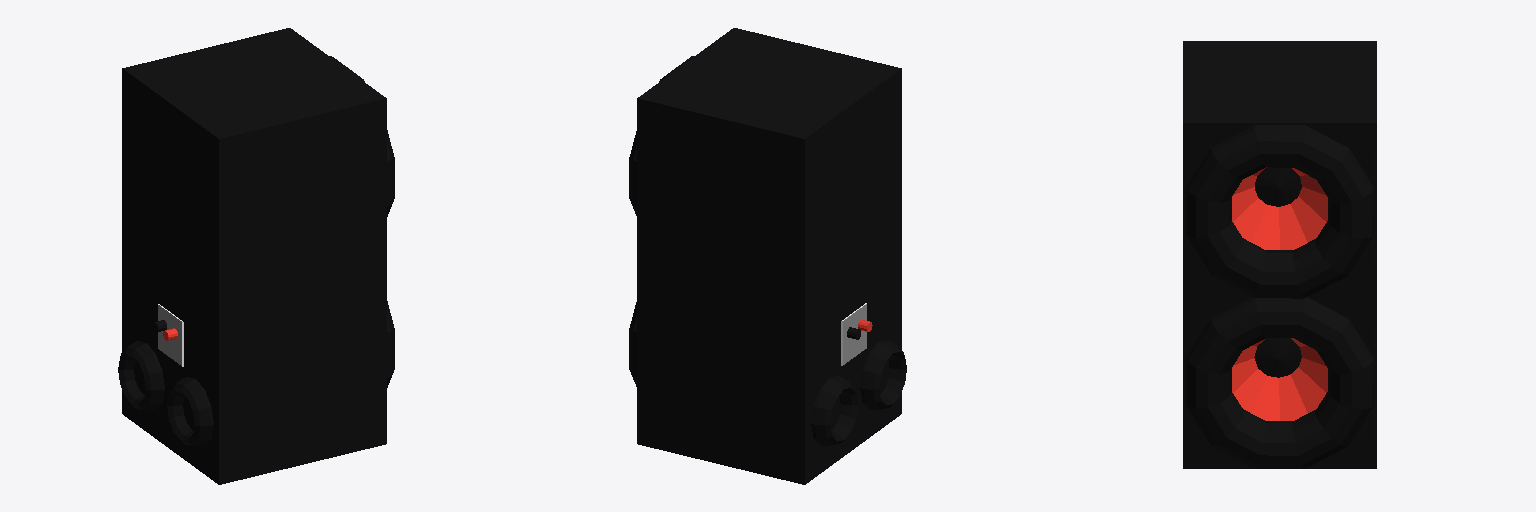
The picture shows the model from 3 angles: view 1: azimuth 30°, elevation 25°; view 2: azimuth 150°, elevation 25°; view 3: azimuth 270°, elevation 25°; orthographic projection.
Visible parts, largest first — view 1: group[number redacted], group[number redacted], group[number redacted], group[number redacted], group[number redacted], group[number redacted]; view 2: group[number redacted], group[number redacted], group[number redacted], group[number redacted], group[number redacted], group[number redacted]; view 3: group[number redacted], group[number redacted], group[number redacted], group[number redacted], group[number redacted], group[number redacted], group[number redacted], group[number redacted].
Part boxes in pixels (x1,y1,x2,y2): group[number redacted]: (122, 28, 386, 313); group[number redacted]: (122, 244, 386, 484); group[number redacted]: (167, 377, 213, 446); group[number redacted]: (118, 341, 164, 410); group[number redacted]: (158, 304, 183, 366); group[number redacted]: (330, 56, 394, 216); group[number redacted]: (637, 28, 901, 313); group[number redacted]: (637, 244, 901, 484); group[number redacted]: (860, 340, 906, 410); group[number redacted]: (811, 376, 857, 445); group[number redacted]: (841, 303, 866, 365); group[number redacted]: (629, 56, 693, 215); group[number redacted]: (1183, 41, 1376, 295); group[number redacted]: (1185, 125, 1373, 298); group[number redacted]: (1185, 297, 1373, 468); group[number redacted]: (1183, 294, 1376, 468); group[number redacted]: (1232, 338, 1327, 420); group[number redacted]: (1232, 167, 1327, 249); group[number redacted]: (1254, 338, 1301, 377); group[number redacted]: (1255, 167, 1301, 206).
Bounding box in the file's own units: 0.6396 × 1.06 × 0.5348.